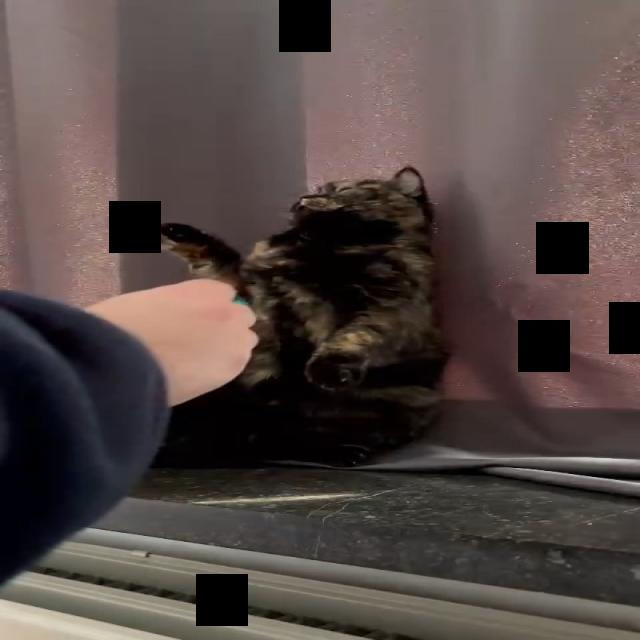authorized: (141, 165, 451, 468)
